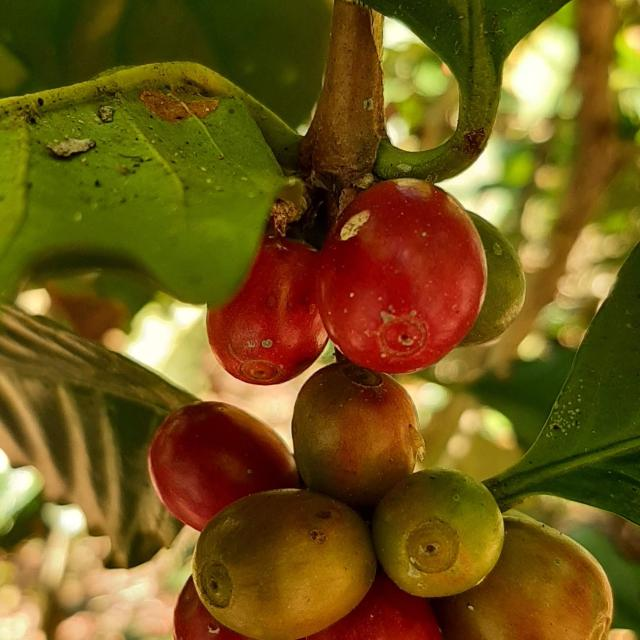green: (460, 211, 527, 346)
red: (317, 178, 488, 374), (148, 402, 300, 532), (206, 236, 328, 385), (307, 572, 442, 640), (174, 577, 252, 640)
yellow: (192, 490, 377, 640), (433, 514, 614, 640), (292, 361, 425, 509), (373, 468, 505, 599)
